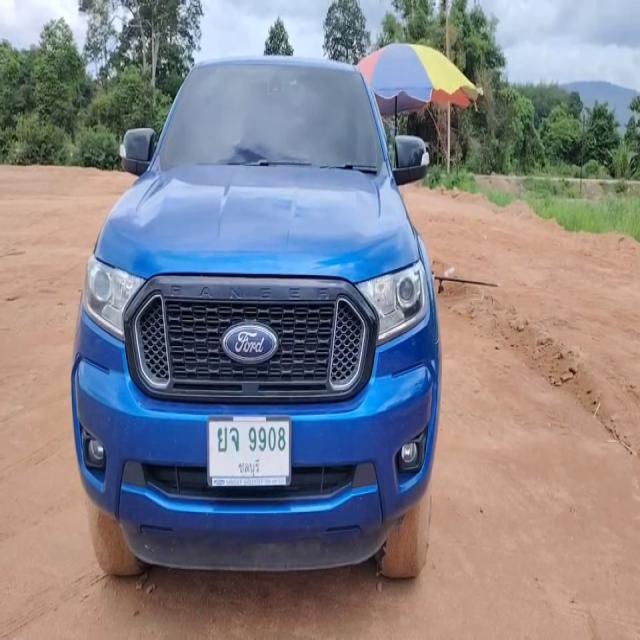Digit: (246, 424, 288, 455)
Licenseplate: (207, 417, 292, 487)
Provincename: (238, 457, 260, 476)
Thaichar: (217, 425, 240, 453)
